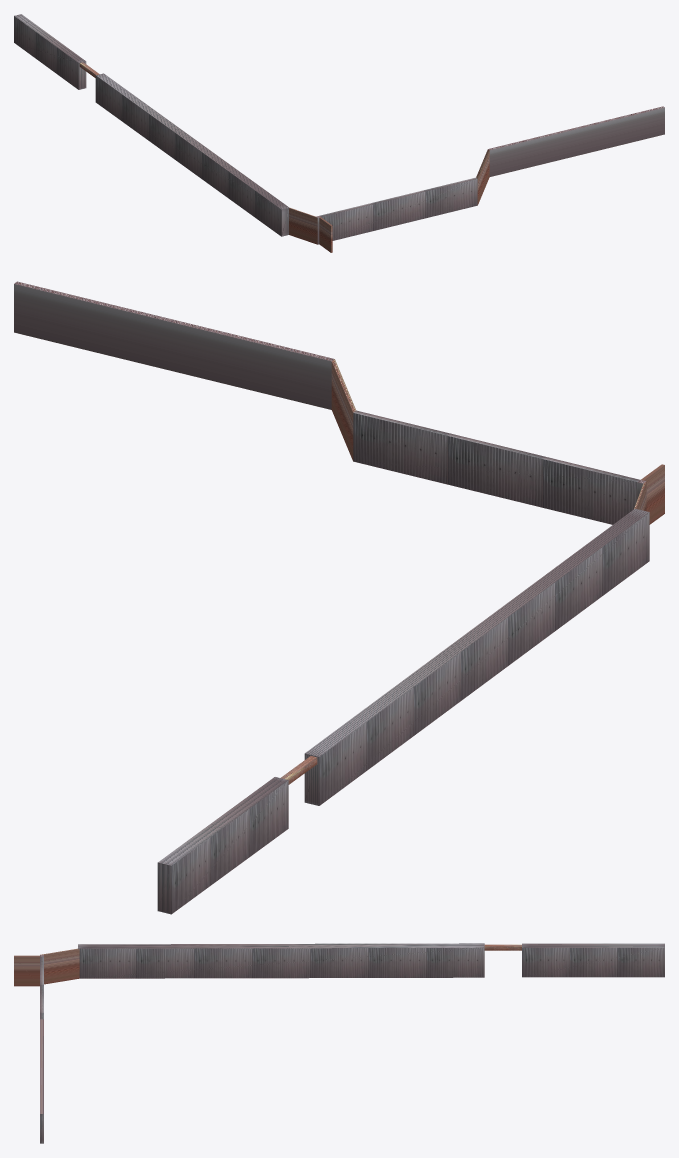
File: wall.FBX
3 views of the same model, one above another, from view 1: azimuth 30°, elevation 25°; view 2: azimuth 150°, elevation 25°; view 3: azimuth 270°, elevation 25° (orthographic). The views are drawn at different scales.
Visible parts, largest first — view 1: Box001, Box005, Box003; view 2: Box001, Box005, Box003; view 3: Box005, Box003, Box001.
Part boxes in pixels (left/top/right/bottom): Box001: left=289, top=106, right=664, bottom=252; Box005: left=95, top=73, right=289, bottom=236; Box003: left=14, top=14, right=86, bottom=89; Box001: left=14, top=281, right=664, bottom=524; Box005: left=304, top=508, right=649, bottom=805; Box003: left=157, top=777, right=288, bottom=914; Box005: left=78, top=943, right=484, bottom=978; Box003: left=522, top=943, right=664, bottom=977; Box001: left=14, top=948, right=79, bottom=1143.
Size of the model in its own units: 7270 by 10081 by 990.
